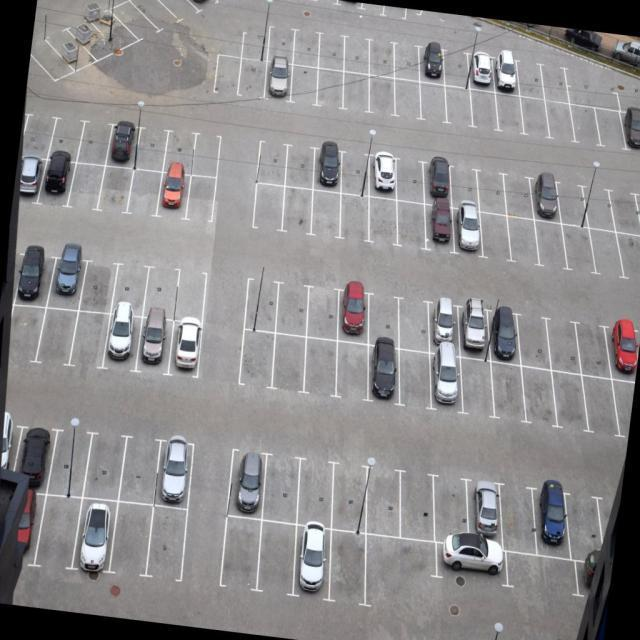space-empty: (106, 497, 155, 579), (146, 501, 194, 584), (326, 523, 372, 604), (507, 552, 580, 600), (254, 519, 300, 593), (294, 455, 339, 530), (562, 491, 608, 562), (34, 498, 79, 570), (218, 514, 263, 586), (49, 431, 92, 503), (367, 535, 442, 576), (498, 481, 541, 551), (574, 178, 625, 236), (83, 434, 125, 502), (263, 451, 304, 520), (485, 360, 531, 421), (576, 375, 624, 432), (368, 462, 407, 532), (335, 455, 373, 524), (122, 438, 161, 505), (35, 307, 79, 366), (528, 215, 571, 275), (431, 474, 471, 537), (398, 474, 437, 538), (550, 371, 593, 429), (518, 368, 561, 425), (556, 226, 601, 279), (70, 311, 109, 372), (271, 330, 310, 391), (241, 326, 278, 390), (575, 319, 618, 374), (393, 347, 432, 407), (551, 178, 594, 232), (4, 303, 44, 361), (474, 213, 519, 264), (501, 216, 544, 269), (514, 314, 556, 368), (28, 35, 75, 83), (303, 337, 344, 392), (333, 337, 371, 395), (244, 275, 284, 330), (512, 49, 552, 104), (470, 167, 513, 218), (113, 0, 168, 39), (79, 260, 117, 316), (456, 354, 494, 410), (546, 318, 584, 373), (276, 278, 315, 331), (498, 171, 539, 221), (144, 264, 181, 319), (111, 260, 148, 315), (368, 290, 406, 343), (335, 193, 373, 246), (364, 194, 402, 247), (336, 69, 374, 120), (582, 233, 625, 278), (176, 268, 211, 323), (308, 187, 343, 242), (388, 74, 426, 123), (308, 286, 343, 339), (566, 77, 622, 110), (280, 188, 316, 239), (393, 154, 429, 205), (394, 199, 430, 250), (360, 70, 398, 118), (71, 160, 108, 209), (609, 182, 640, 240), (129, 0, 184, 32), (536, 56, 575, 101), (400, 299, 435, 349), (450, 159, 485, 209), (254, 139, 290, 187), (340, 146, 376, 194), (543, 97, 576, 148), (101, 164, 134, 214), (52, 113, 85, 163), (252, 182, 285, 232), (516, 92, 549, 142), (607, 376, 635, 434), (128, 169, 164, 214), (133, 127, 169, 172), (490, 92, 525, 137), (163, 129, 196, 176), (288, 63, 319, 113), (236, 52, 269, 98), (443, 83, 474, 131), (286, 142, 319, 187), (342, 31, 377, 73), (467, 86, 495, 137), (79, 119, 110, 164), (417, 80, 447, 126), (212, 50, 242, 96), (440, 43, 473, 84), (186, 172, 216, 217), (192, 129, 222, 174), (23, 115, 53, 160), (570, 103, 597, 153), (316, 66, 344, 114), (390, 42, 423, 81), (315, 29, 348, 68), (615, 231, 640, 281), (365, 38, 399, 73), (267, 23, 297, 62), (240, 21, 270, 60), (150, 0, 201, 22), (291, 30, 322, 66), (597, 106, 620, 154)
space-occupied: (436, 540, 512, 583), (71, 501, 115, 575), (293, 525, 338, 597), (225, 449, 267, 518), (12, 427, 54, 495), (534, 486, 574, 557), (425, 348, 471, 409), (80, 0, 137, 49), (155, 439, 197, 504), (136, 312, 177, 377), (102, 310, 143, 373), (468, 481, 506, 546), (49, 22, 94, 75), (525, 168, 565, 226), (365, 345, 403, 405), (166, 322, 206, 377), (602, 323, 640, 380), (69, 14, 119, 57), (461, 299, 496, 359), (421, 202, 460, 255), (39, 157, 78, 208), (446, 204, 484, 256), (337, 286, 374, 339), (47, 257, 85, 308), (491, 306, 525, 361), (19, 250, 54, 303), (366, 150, 402, 200), (428, 299, 463, 350), (315, 141, 348, 191), (263, 55, 295, 104), (423, 158, 455, 206), (16, 153, 48, 200), (108, 124, 140, 169), (463, 47, 498, 87), (157, 171, 187, 217), (415, 42, 448, 83), (490, 55, 523, 92), (617, 106, 640, 159), (174, 0, 221, 14)
